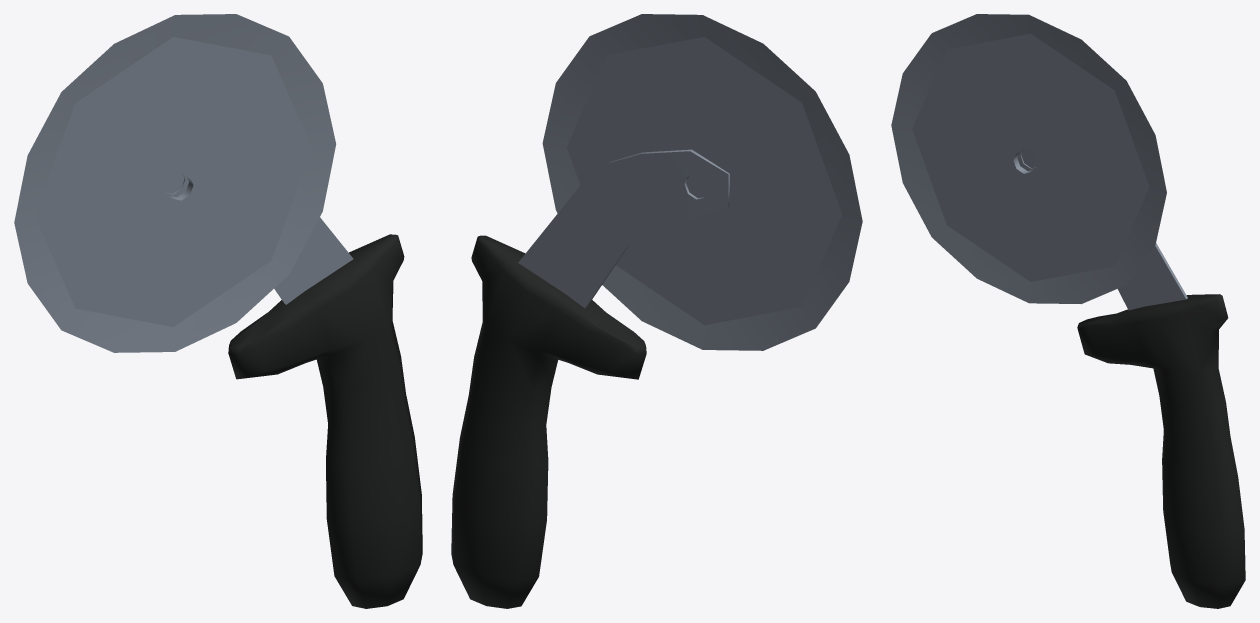
Rendered from cortadora.glb.
The picture shows the model from 3 angles, left to right: view 1: azimuth 30°, elevation 25°; view 2: azimuth 150°, elevation 25°; view 3: azimuth 330°, elevation 25°; orthographic projection. The views are drawn at different scales.
Parts seen in each view (by area): view 1: cutensils_pizza_cutter_Cylinder.033; view 2: cutensils_pizza_cutter_Cylinder.033; view 3: cutensils_pizza_cutter_Cylinder.033.
Part boxes in pixels (<box>): cutensils_pizza_cutter_Cylinder.033: <box>14,14,422,608</box>; cutensils_pizza_cutter_Cylinder.033: <box>451,14,862,608</box>; cutensils_pizza_cutter_Cylinder.033: <box>891,14,1245,608</box>.
Size of the model in its own units: 4.53 by 6.71 by 0.6286.
Materials: 1 (1 with a texture image).
